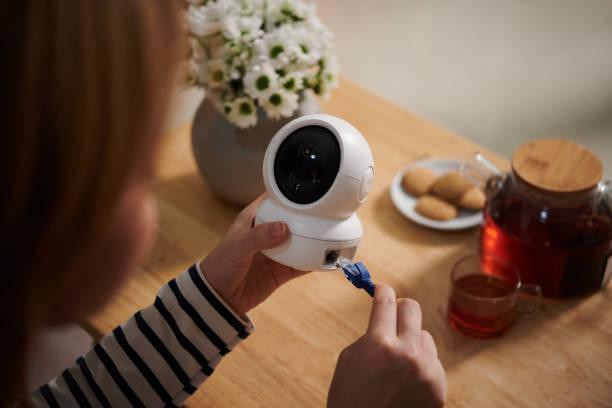camera: (249, 102, 387, 277)
